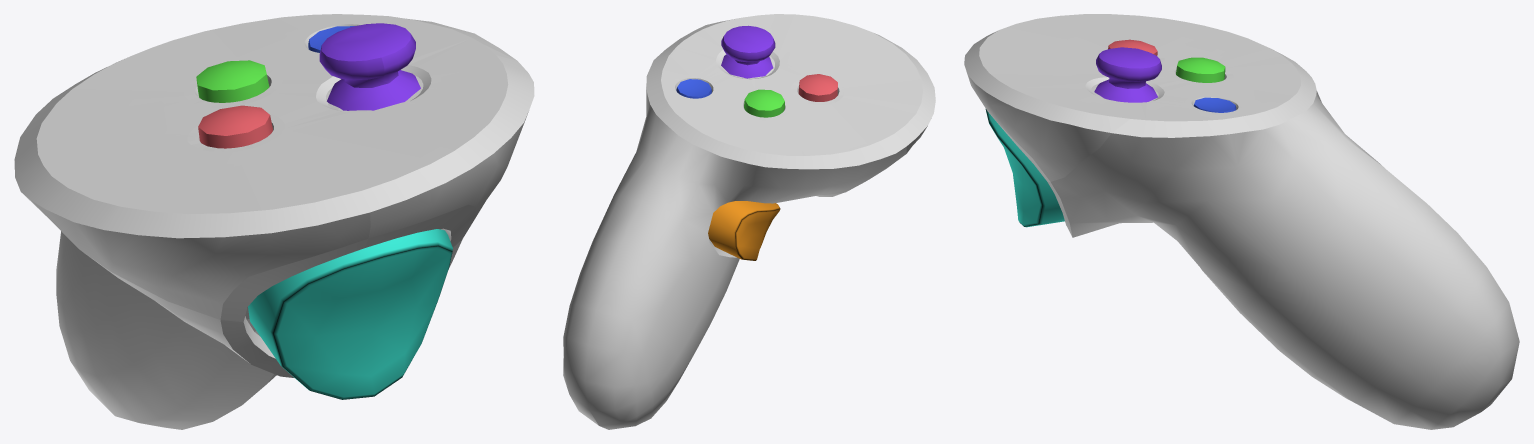
File: LeftController.fbx
3 views of the same model, side by side, from view 1: azimuth 30°, elevation 25°; view 2: azimuth 150°, elevation 25°; view 3: azimuth 270°, elevation 25° (orthographic). The views are drawn at different scales.
Parts seen in each view (by area): view 1: left_quest2_mesh; view 2: left_quest2_mesh; view 3: left_quest2_mesh.
Boxes of the visible parts, box(x1,y1,x2,y2) form: left_quest2_mesh: box(14, 14, 534, 429); left_quest2_mesh: box(563, 14, 935, 429); left_quest2_mesh: box(964, 14, 1519, 429).
Bounding box in the file's own units: 7.13 × 8.19 × 11.11.
